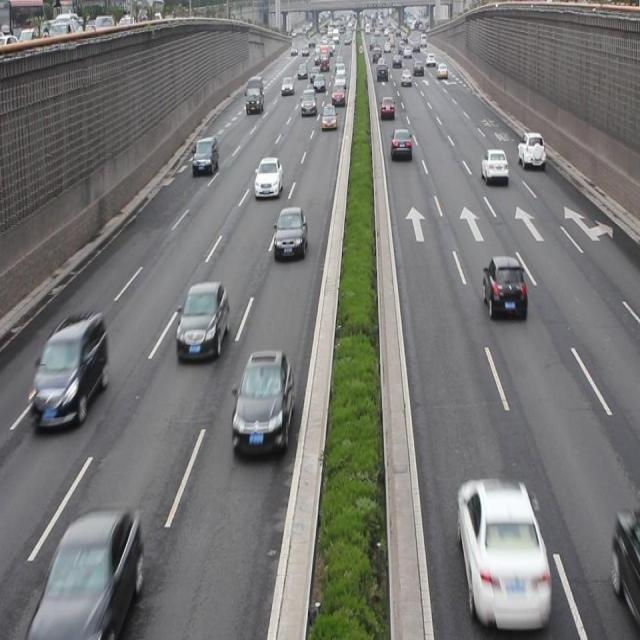car: (32, 505, 141, 640), (457, 479, 551, 620), (31, 312, 108, 430), (232, 349, 294, 455), (175, 280, 229, 359), (611, 506, 640, 622), (481, 255, 526, 320), (273, 206, 307, 258), (255, 155, 282, 197), (516, 130, 544, 169), (192, 134, 218, 174), (480, 146, 507, 183), (389, 127, 412, 162), (320, 102, 336, 130)
